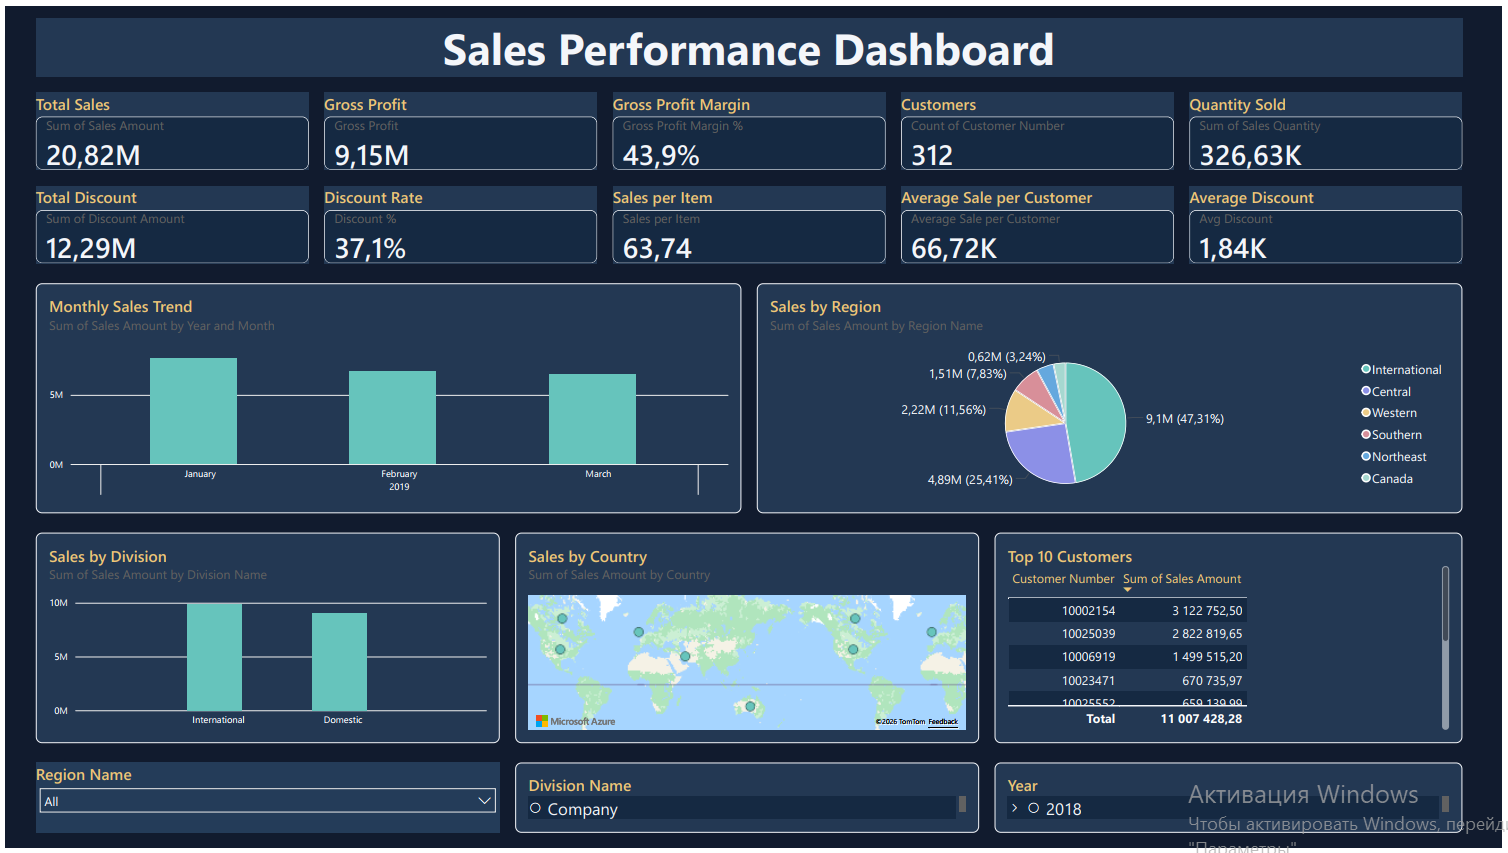

The page's visual inventory and layout, read from the dashboard file:
{"tool":"powerbi","page":{"name":"Sales Overview","canvas":[1920,1080],"ordinal":0},"visuals":[{"type":"slicer","title":"Region Name","fields":{"Values":["REGION.Region Name"]},"box":[40,970,595,90],"z":0},{"type":"clusteredColumnChart","title":"Monthly Sales Trend","fields":{"Category":["Sheet1.Invoice Date.Variation.Date Hierarchy.Year","Sheet1.Invoice Date.Variation.Date Hierarchy.Month"],"Y":["Sum(Sheet1.Sales Amount)"]},"box":[40,355,905,295],"z":1000},{"type":"pieChart","title":"Sales by Region","fields":{"Category":["REGION.Region Name"],"Y":["Sum(Sheet1.Sales Amount)"]},"box":[965,355,905,295],"z":2000},{"type":"clusteredColumnChart","title":"Sales by Division","fields":{"Category":["DIVISION.Division Name"],"Y":["Sum(Sheet1.Sales Amount)"]},"box":[40,675,595,270],"z":3000},{"type":"cardVisual","title":"Total Sales","fields":{"Data":["Sum(Sheet1.Sales Amount)"]},"box":[40,110,350,100],"z":4000},{"type":"cardVisual","title":"Total Discount","fields":{"Data":["Sum(Sheet1.Discount Amount)"]},"box":[40,230,350,100],"z":5000},{"type":"cardVisual","title":"Customers","fields":{"Data":["Count(Sheet1.Customer Number)"]},"box":[1150,110,350,100],"z":6000},{"type":"cardVisual","title":"Quantity Sold","fields":{"Data":["Sum(Sheet1.Sales Quantity)"]},"box":[1520,110,350,100],"z":7000},{"type":"listSlicer","fields":{"Values":["DIVISION.Division Name"]},"box":[655,970,595,90],"z":8000},{"type":"listSlicer","fields":{"Values":["Sheet1.Actual Delivery Date.Variation.Date Hierarchy.Year","Sheet1.Actual Delivery Date.Variation.Date Hierarchy.Month"]},"box":[1270,970,600,90],"z":9000},{"type":"tableEx","title":"Top 10 Customers","fields":{"Values":["Sheet1.Customer Number","Sum(Sheet1.Sales Amount)"]},"box":[1270,675,600,270],"z":10000},{"type":"cardVisual","title":"Average Sale per Customer","fields":{"Data":["Sheet1.Average Sale per Customer"]},"box":[1150,230,350,100],"z":11000},{"type":"cardVisual","title":"Discount Rate","fields":{"Data":["Sheet1.Discount %"]},"box":[410,230,350,100],"z":12000},{"type":"azureMap","title":"Sales by Country","fields":{"Category":["CUSTOMERADDRESS.Country"],"Size":["Sum(Sheet1.Sales Amount)"]},"box":[655,675,595,270],"z":13000},{"type":"cardVisual","title":"Sales per Item","fields":{"Data":["Sheet1.Sales per Item"]},"box":[780,230,350,100],"z":14000},{"type":"textbox","box":[40,15,1830,75],"z":15000},{"type":"cardVisual","title":"Average Discount","fields":{"Data":["Sheet1.Avg Discount"]},"box":[1520,230,350,100],"z":16000},{"type":"cardVisual","title":"Gross Profit","fields":{"Data":["Sheet1.Gross Profit"]},"box":[410,110,350,100],"z":17000},{"type":"cardVisual","title":"Gross Profit Margin","fields":{"Data":["Sheet1.Gross Profit Margin %"]},"box":[780,110,350,100],"z":18000}]}

Visuals, with their boxes in screenshot pixels (x1, y1, x2, y2):
"Region Name" slicer: [x1=32, y1=767, x2=510, y2=839]
"Monthly Sales Trend" clusteredColumnChart: [x1=32, y1=273, x2=759, y2=510]
"Sales by Region" pieChart: [x1=775, y1=273, x2=1502, y2=510]
"Sales by Division" clusteredColumnChart: [x1=32, y1=530, x2=510, y2=747]
"Total Sales" cardVisual: [x1=32, y1=77, x2=313, y2=157]
"Total Discount" cardVisual: [x1=32, y1=173, x2=313, y2=253]
"Customers" cardVisual: [x1=923, y1=77, x2=1205, y2=157]
"Quantity Sold" cardVisual: [x1=1221, y1=77, x2=1502, y2=157]
listSlicer - DIVISION.Division Name: [x1=526, y1=767, x2=1004, y2=839]
listSlicer - Sheet1.Actual Delivery Date.Variation.Date Hierarchy.Year x Sheet1.Actual Delivery Date.Variation.Date Hierarchy.Month: [x1=1020, y1=767, x2=1502, y2=839]
"Top 10 Customers" tableEx: [x1=1020, y1=530, x2=1502, y2=747]
"Average Sale per Customer" cardVisual: [x1=923, y1=173, x2=1205, y2=253]
"Discount Rate" cardVisual: [x1=329, y1=173, x2=610, y2=253]
"Sales by Country" azureMap: [x1=526, y1=530, x2=1004, y2=747]
"Sales per Item" cardVisual: [x1=626, y1=173, x2=907, y2=253]
textbox: [x1=32, y1=0, x2=1502, y2=60]
"Average Discount" cardVisual: [x1=1221, y1=173, x2=1502, y2=253]
"Gross Profit" cardVisual: [x1=329, y1=77, x2=610, y2=157]
"Gross Profit Margin" cardVisual: [x1=626, y1=77, x2=907, y2=157]
